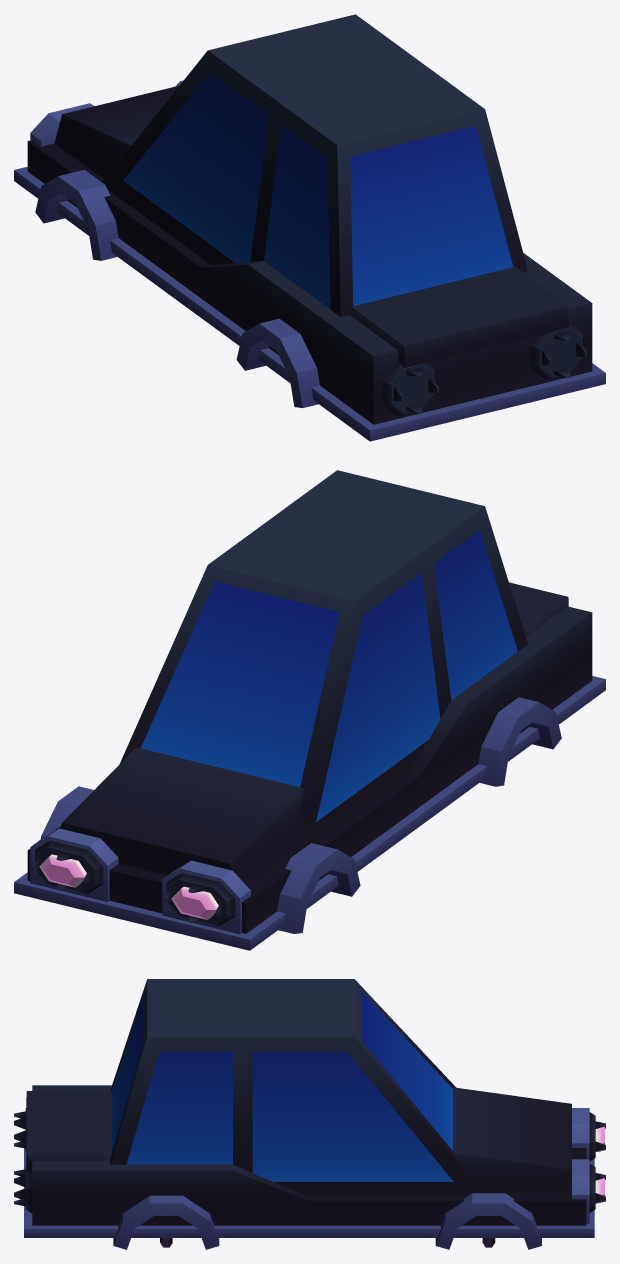
Rendered from NPC_Car.gltf.
The picture shows the model from 3 angles, top to bottom: view 1: azimuth 30°, elevation 25°; view 2: azimuth 150°, elevation 25°; view 3: azimuth 270°, elevation 25°; orthographic projection. The views are drawn at different scales.
Parts seen in each view (by area): view 1: NPC_Car; view 2: NPC_Car; view 3: NPC_Car.
Boxes of the visible parts, <box> form: NPC_Car: <box>14,14,605,441</box>; NPC_Car: <box>14,470,605,950</box>; NPC_Car: <box>14,979,605,1249</box>.
Size of the model in its own units: 2.06 by 1.83 by 5.08.
Materials: 1 (1 with a texture image).
